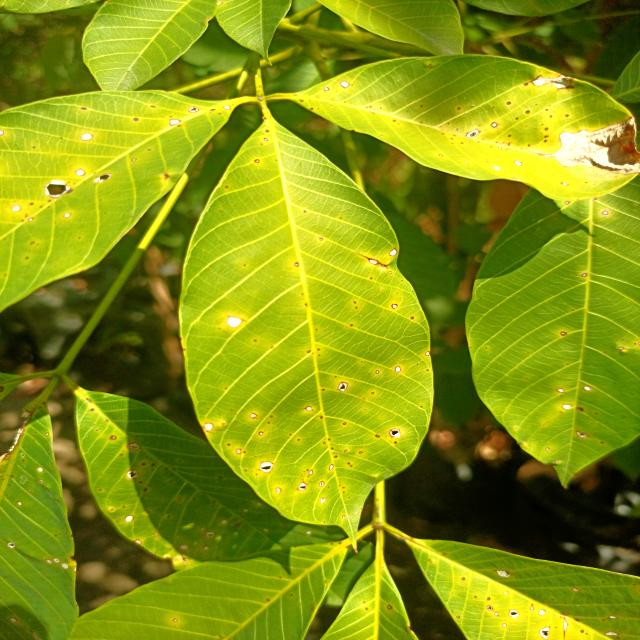Colletotrichum: (389, 428, 401, 438), (337, 382, 348, 391), (127, 443, 141, 450), (81, 133, 93, 141), (169, 119, 181, 126), (205, 422, 213, 432), (76, 169, 86, 176), (340, 81, 350, 88), (188, 107, 199, 113), (389, 248, 397, 256), (125, 515, 134, 522), (12, 206, 22, 212), (562, 404, 571, 410), (490, 122, 498, 128), (514, 160, 522, 166), (63, 213, 72, 218), (251, 412, 258, 418), (560, 331, 568, 336), (304, 406, 312, 411), (576, 407, 584, 412), (556, 388, 564, 393), (493, 166, 501, 171), (395, 366, 401, 372), (328, 464, 334, 470), (276, 488, 282, 494), (236, 448, 242, 454), (391, 304, 398, 309), (110, 435, 117, 440), (223, 106, 231, 110), (294, 262, 300, 267), (618, 346, 624, 351), (318, 481, 324, 486), (258, 431, 264, 436), (584, 386, 590, 391), (323, 87, 330, 91), (425, 351, 430, 356), (254, 159, 260, 163), (582, 273, 588, 277), (602, 211, 608, 215), (564, 201, 570, 205), (375, 434, 380, 438), (309, 470, 313, 475), (525, 110, 530, 114), (562, 183, 568, 186), (438, 154, 444, 157), (376, 370, 380, 374), (142, 462, 146, 466), (544, 127, 548, 131), (506, 102, 511, 105), (264, 138, 268, 141), (134, 118, 138, 121), (131, 159, 137, 161), (411, 316, 414, 320), (307, 350, 311, 353), (359, 451, 363, 454), (334, 455, 338, 458), (499, 146, 502, 150), (464, 161, 468, 164), (457, 107, 461, 110), (426, 369, 429, 372), (371, 392, 374, 395), (394, 441, 397, 444), (343, 422, 346, 425), (320, 416, 323, 419), (390, 271, 392, 274), (320, 238, 323, 240), (323, 442, 326, 444), (331, 448, 334, 450), (348, 462, 350, 465)
Leaf-Blight: (543, 116, 640, 175), (533, 74, 572, 88)
